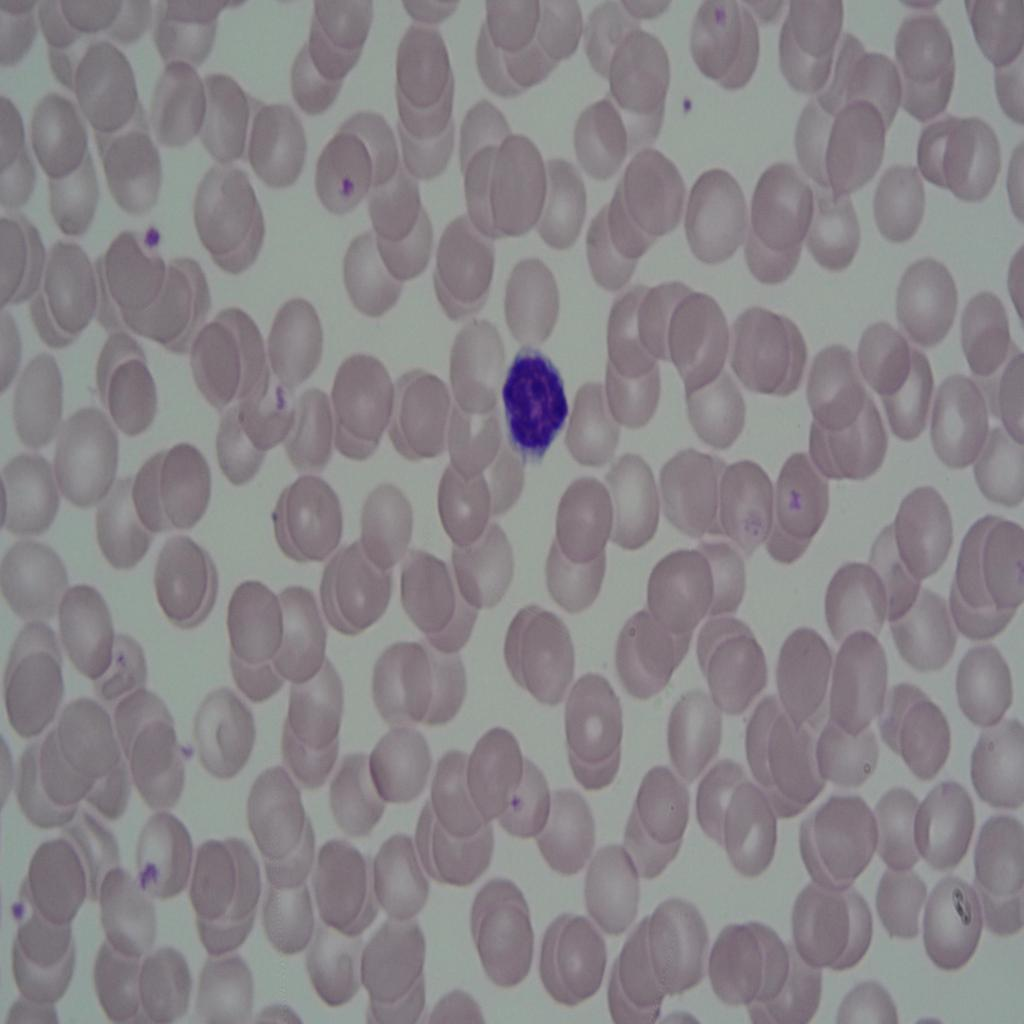Myeoblast: (498, 343, 568, 461)
Platelet: (329, 160, 358, 212), (1, 888, 32, 932), (269, 358, 294, 410), (141, 845, 163, 899), (173, 732, 200, 772), (710, 0, 736, 33), (140, 216, 163, 253), (680, 82, 698, 121)
